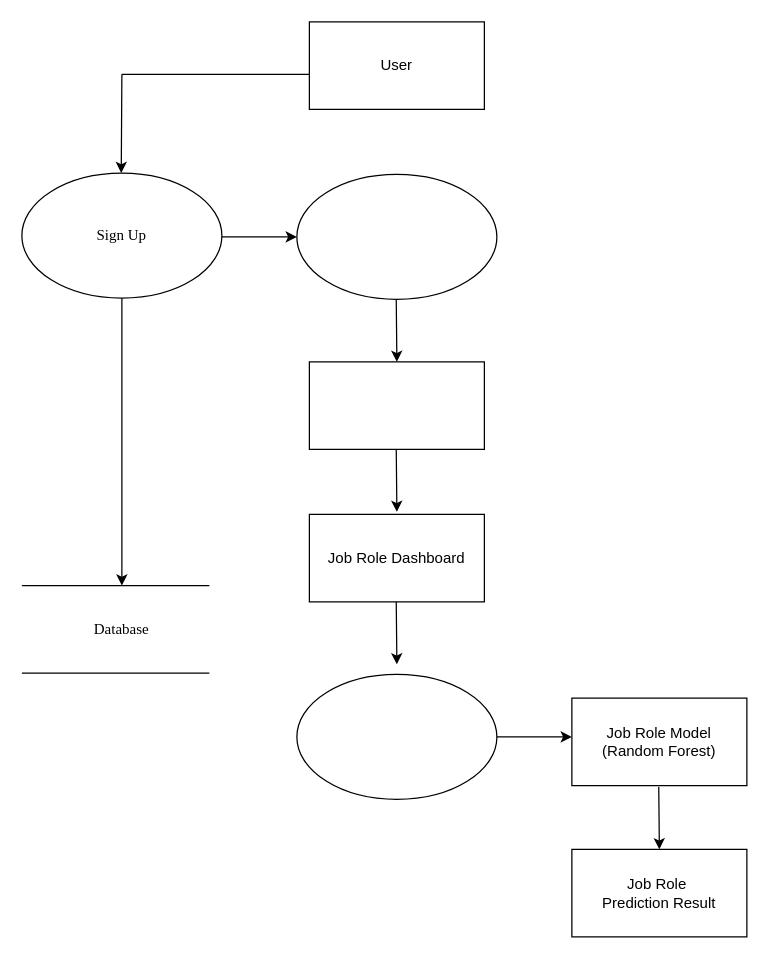
Some shapes in this 769 by 959 pixel diagram are drawn without their labels. The shapes that lost their labels are listed below. From the top down, each one's centre as x and y in pixels, then its label:
pixel 396 236: Sign In
pixel 396 405: Dashboard
pixel 396 736: Database, software, ai & ml ....etc ratings
